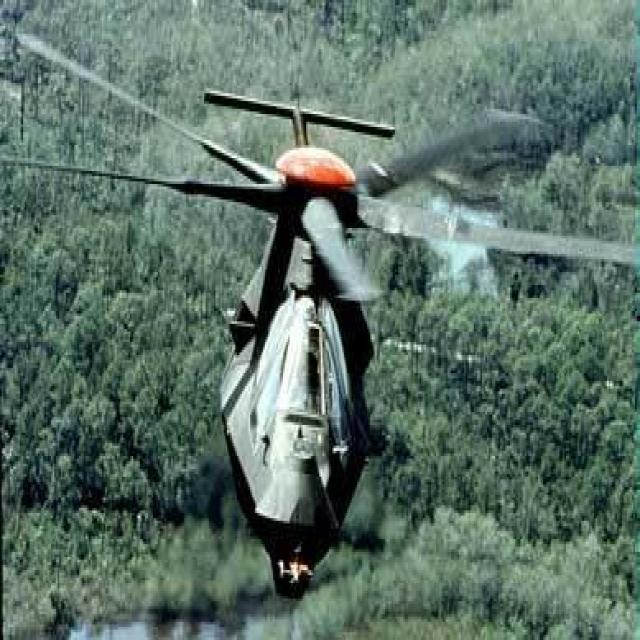MIL_HELO: (0, 33, 629, 589)
